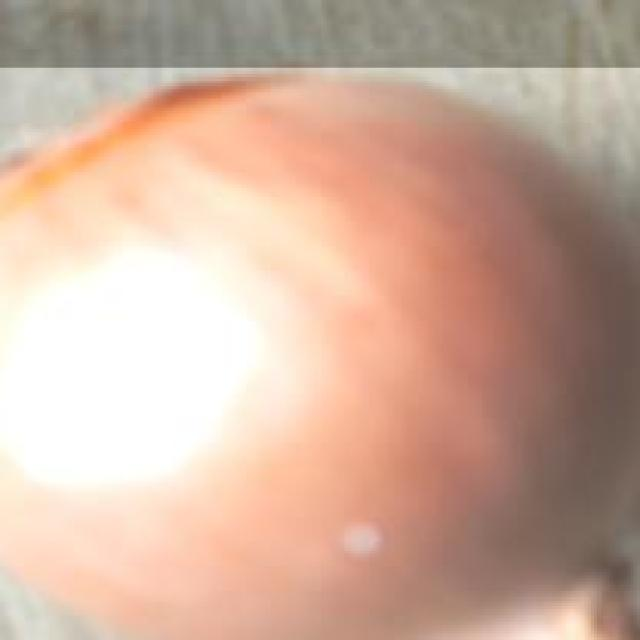onion: (0, 61, 640, 640)
